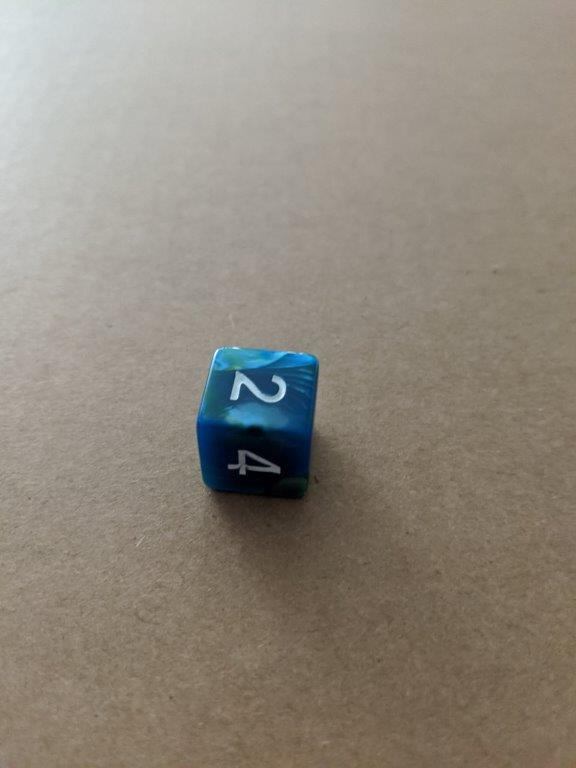d6-2: (192, 344, 319, 500)
